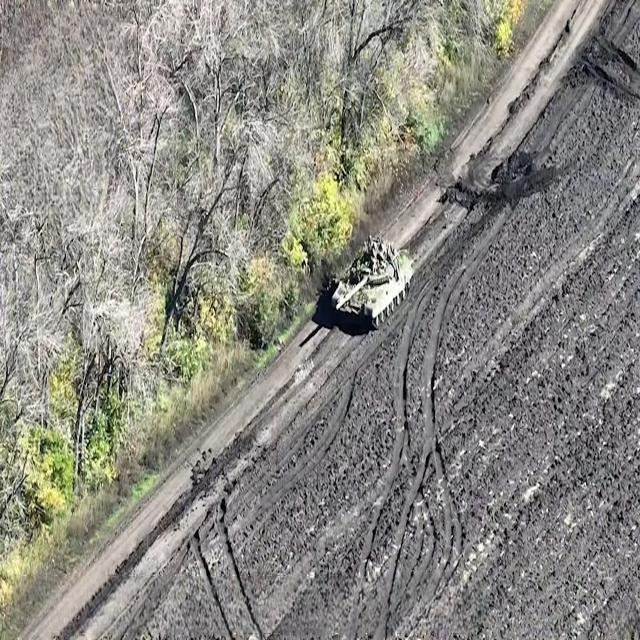MBT: (329, 230, 418, 338)
